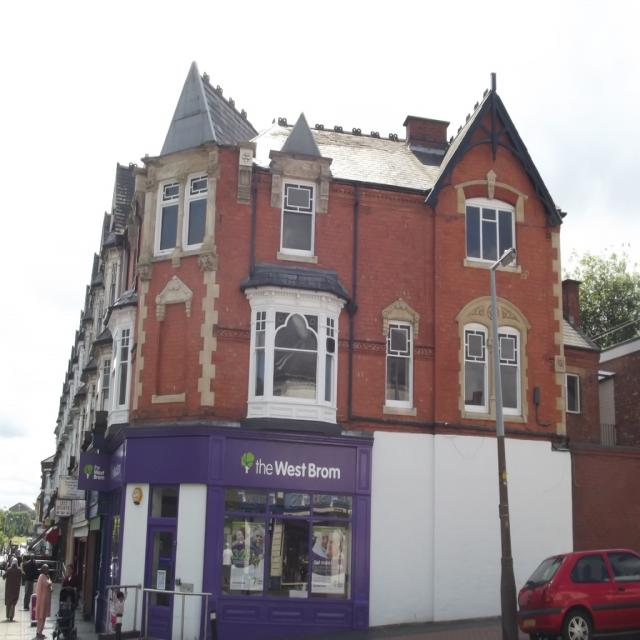other: (515, 533, 639, 639), (0, 554, 6, 567)
